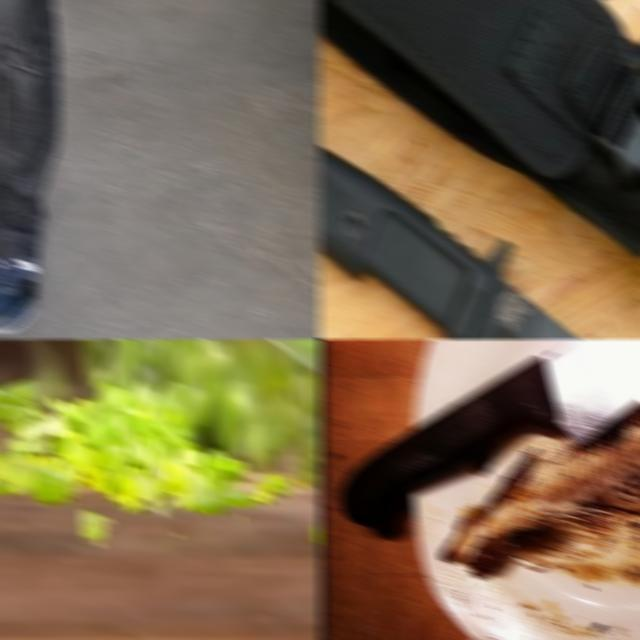Knife: (318, 146, 580, 340)
Knife_Handle: (0, 338, 322, 469)
